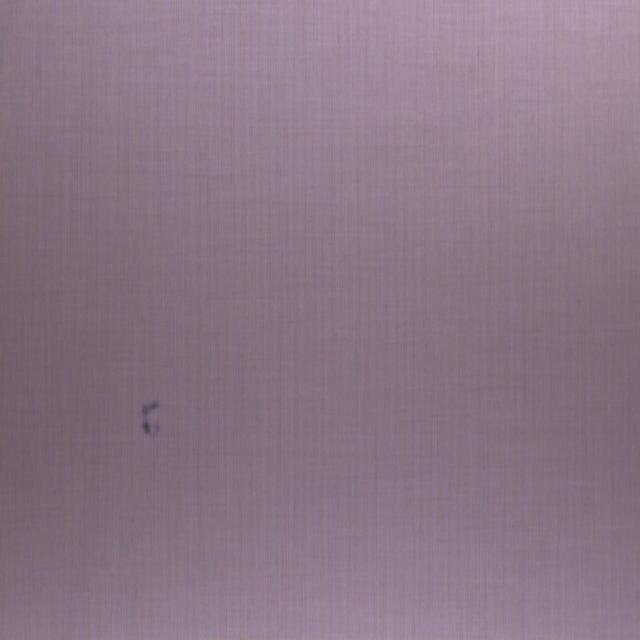dirty: (140, 398, 160, 438)
